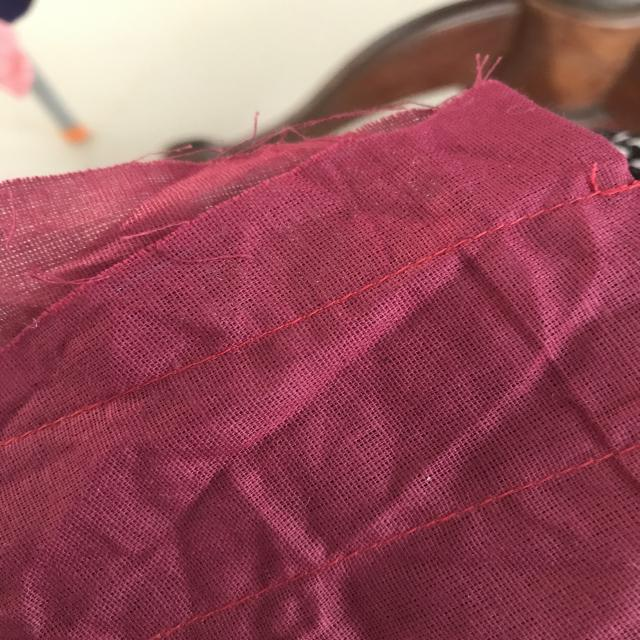good: (284, 268, 374, 349)
